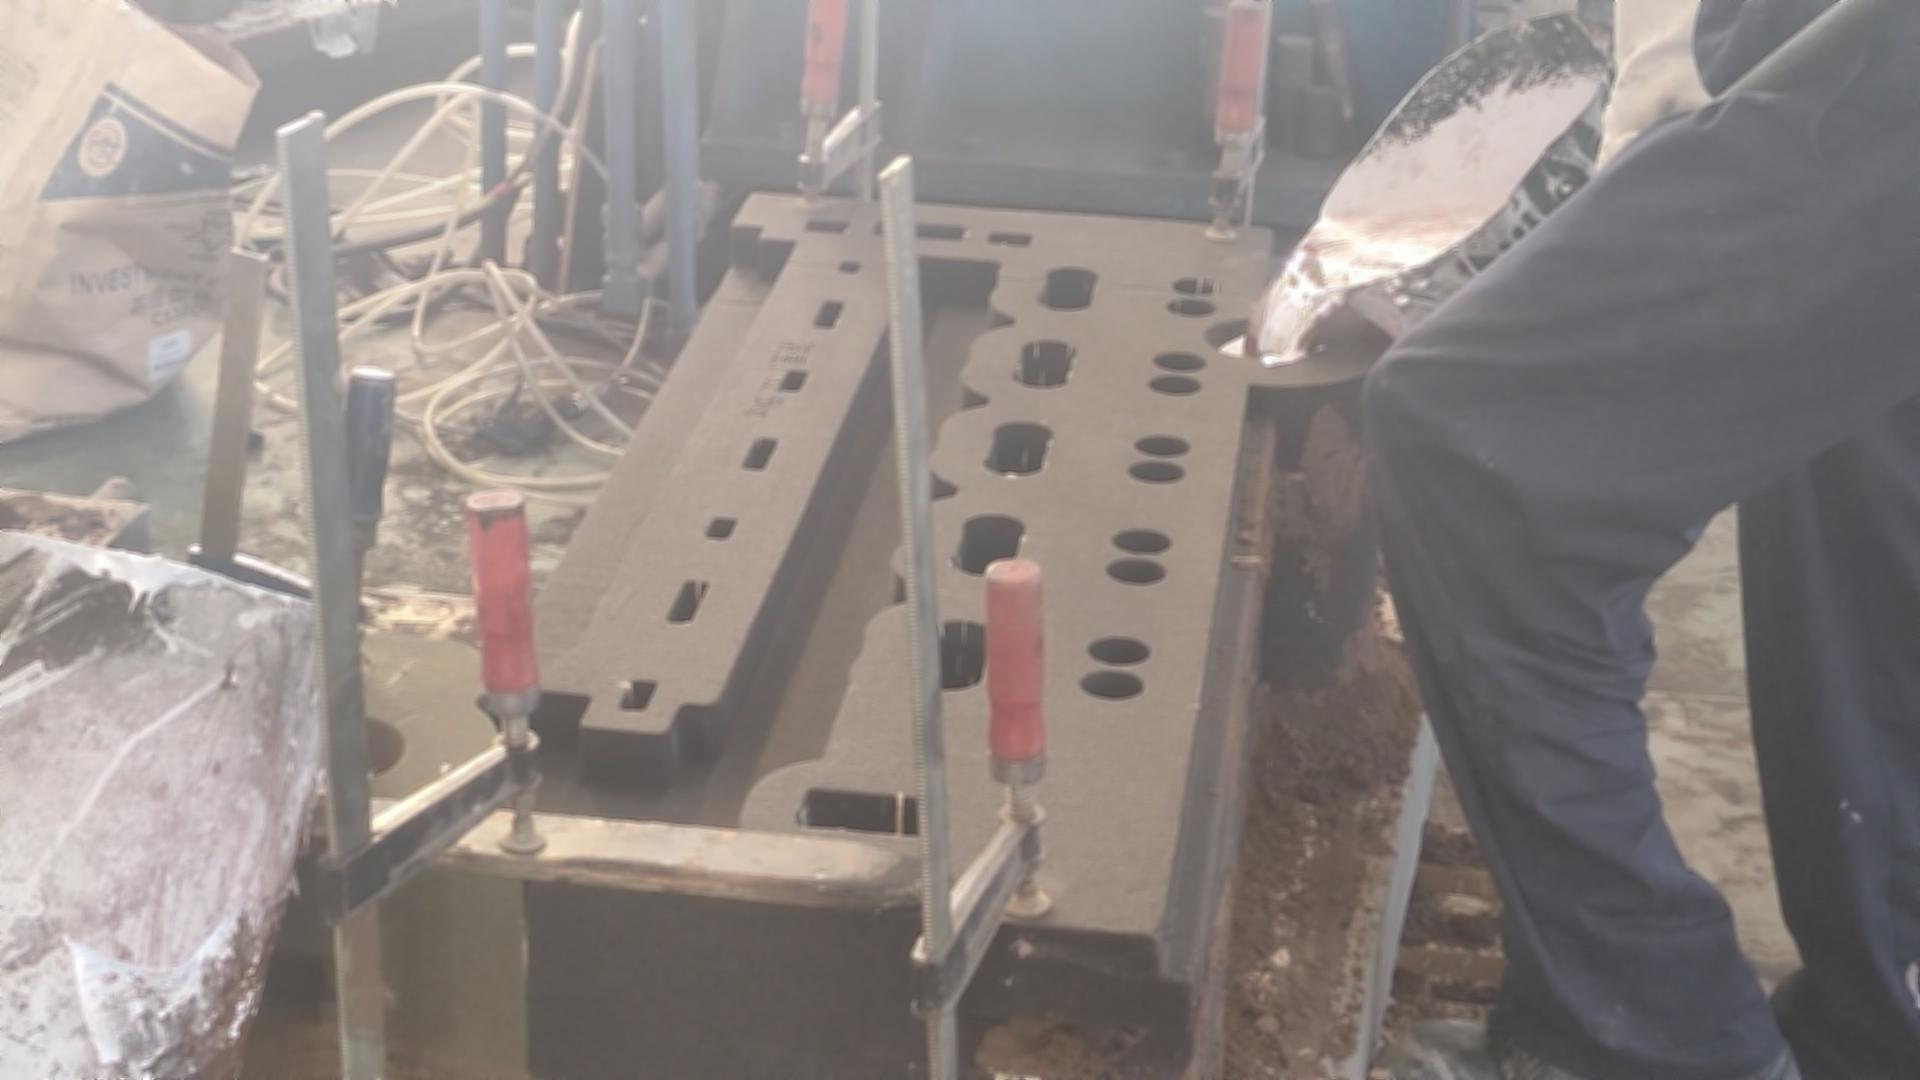pouring hole: (284, 704, 406, 781), (1201, 315, 1331, 361)
